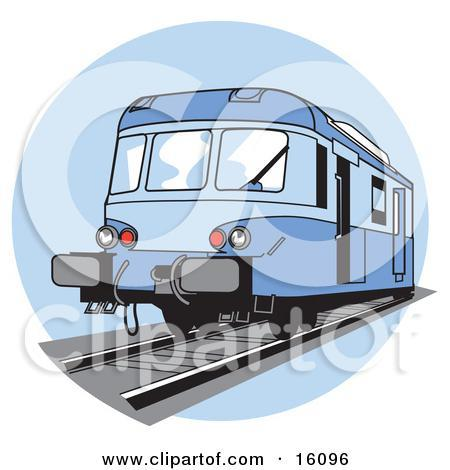train: (49, 90, 415, 344)
